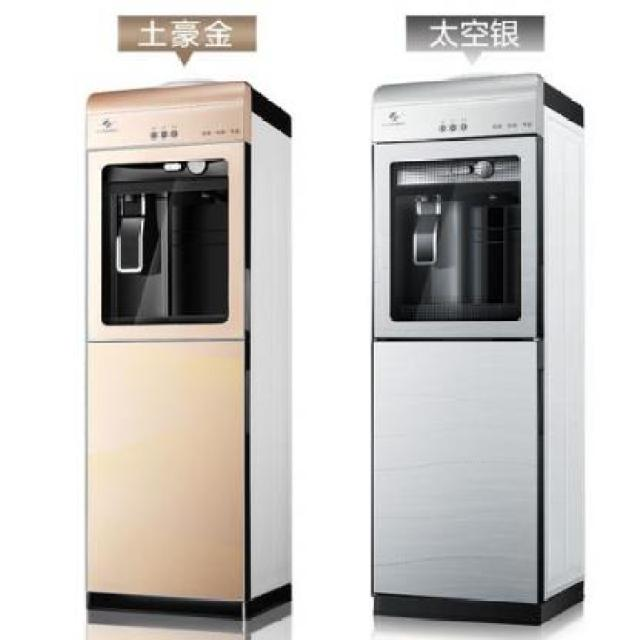cooler: (368, 68, 588, 624), (83, 68, 297, 633)
